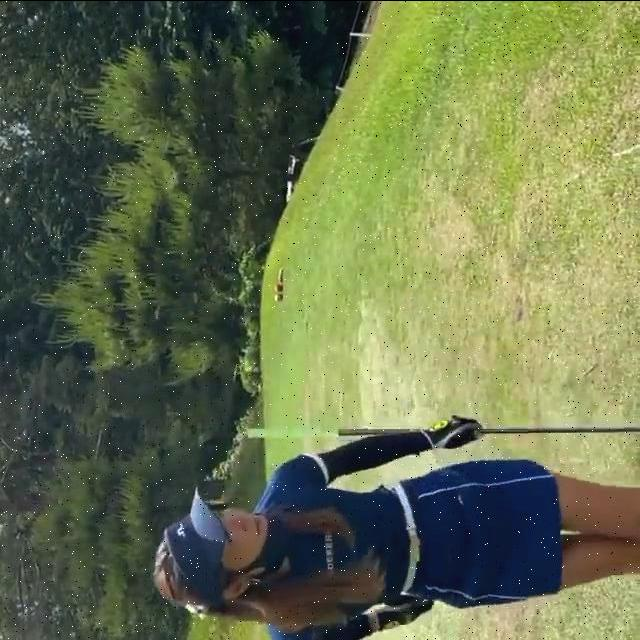golf club-handle: (248, 425, 640, 437)
